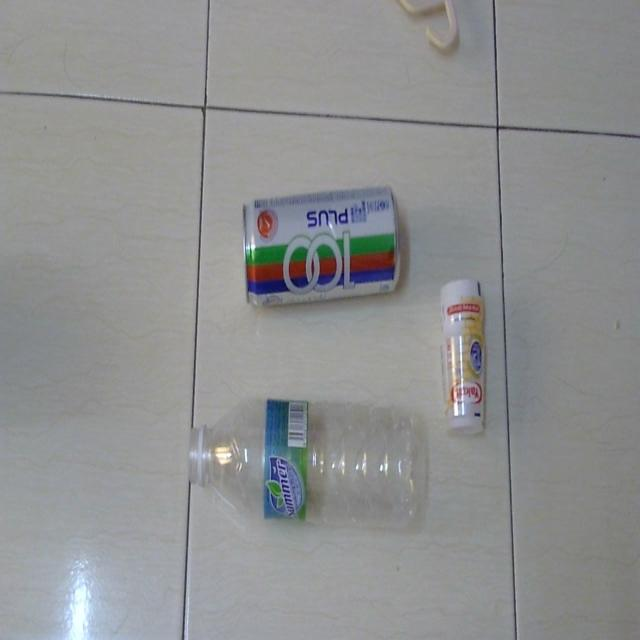metal_laydown_0rotation: (234, 182, 405, 308)
plastic_laydown_0rotation: (180, 392, 426, 538)
plastic_laydown_90rotation: (437, 271, 494, 444)
